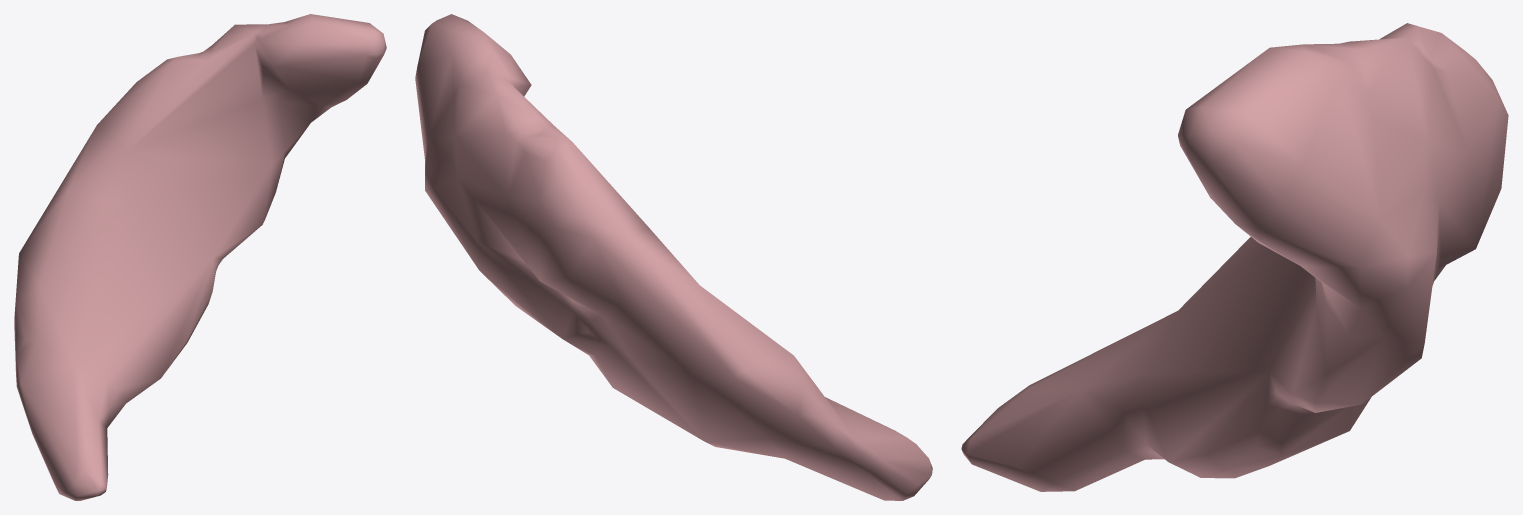
The picture shows the model from 3 angles, left to right: view 1: azimuth 30°, elevation 25°; view 2: azimuth 150°, elevation 25°; view 3: azimuth 270°, elevation 25°; orthographic projection. The views are drawn at different scales.
Visible parts, largest first — view 1: ZA_dcfc5b0847df1672; view 2: ZA_dcfc5b0847df1672; view 3: ZA_dcfc5b0847df1672.
Part boxes in pixels (x1,y1,x2,y2): ZA_dcfc5b0847df1672: (14,14,386,500); ZA_dcfc5b0847df1672: (415,14,932,500); ZA_dcfc5b0847df1672: (961,23,1508,491).
Size of the model in its own units: 0.0329 by 0.0306 by 0.021.
